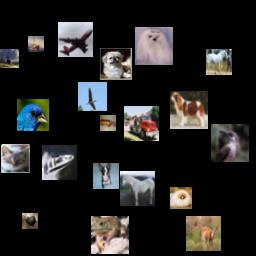airplane: (58, 22, 93, 57)
bird: (211, 124, 249, 162), (17, 99, 49, 131), (78, 82, 107, 111), (22, 213, 38, 229)
cat: (1, 144, 30, 173)
deer: (186, 216, 221, 251), (0, 49, 19, 68)
dog: (135, 27, 173, 65), (170, 91, 208, 129), (100, 48, 132, 80), (93, 163, 119, 189), (170, 187, 192, 209)
frog: (91, 216, 129, 254)
ship: (42, 145, 77, 180), (28, 36, 44, 52)
truck: (124, 106, 159, 141), (100, 115, 116, 131)
